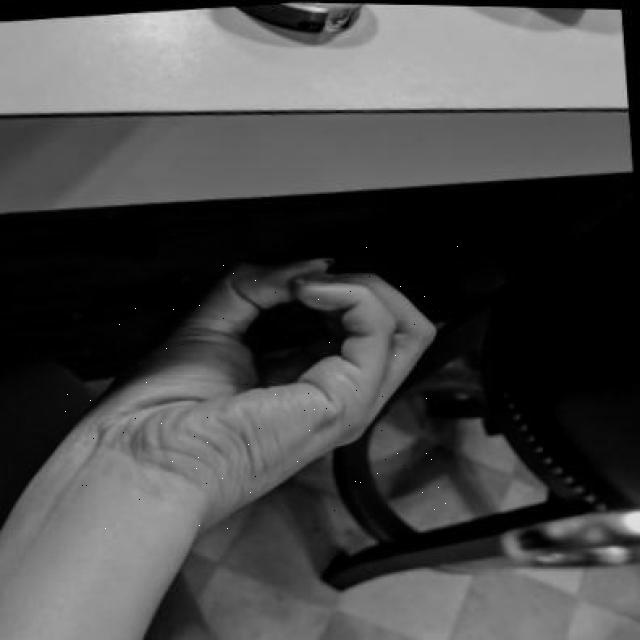O: (63, 236, 459, 530)
